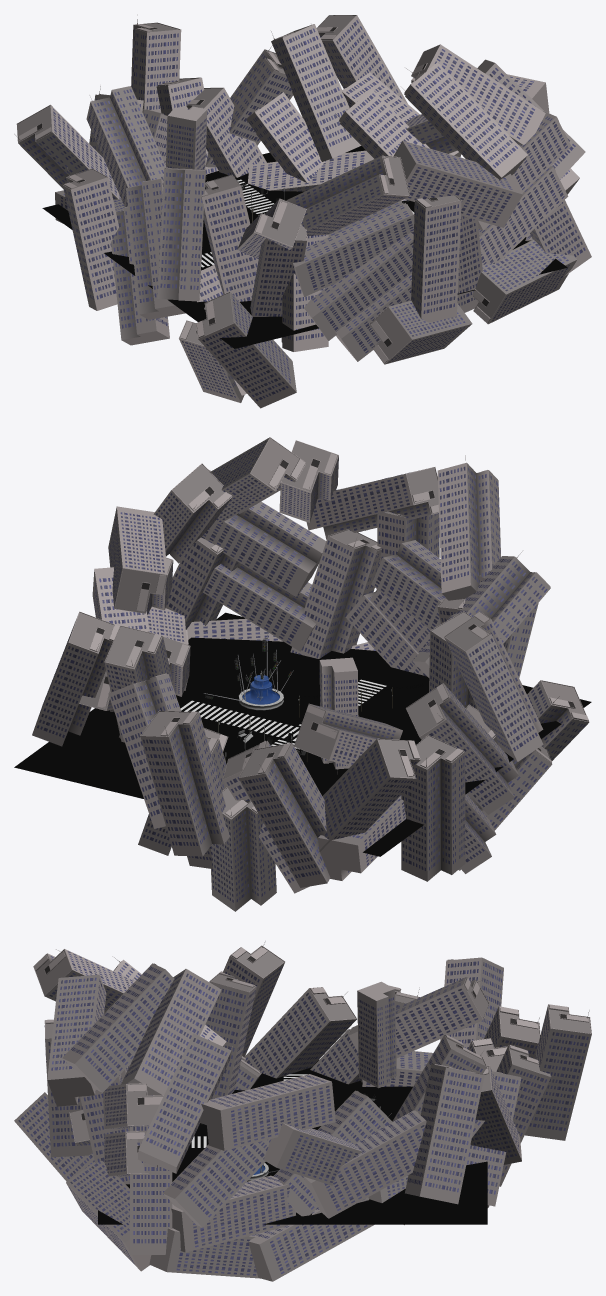
The model's file is level-1-enigma.glb.
3 renders of one model, top to bottom at view 1: azimuth 30°, elevation 25°; view 2: azimuth 150°, elevation 25°; view 3: azimuth 270°, elevation 25°, orthographic. The views are drawn at different scales.
Visible parts, largest first — view 1: buildings, Plane, upside-down-building; view 2: buildings, Plane, upside-down-building, lignepieton.001, base.020, water; view 3: buildings, Plane, upside-down-building.
Part boxes in pixels (bbox=[...]): buildings: bbox=[14, 14, 591, 408]; Plane: bbox=[42, 146, 567, 348]; upside-down-building: bbox=[166, 106, 207, 169]; buildings: bbox=[32, 437, 589, 911]; Plane: bbox=[14, 612, 591, 856]; upside-down-building: bbox=[319, 657, 358, 774]; lignepieton.001: bbox=[180, 700, 299, 741]; base.020: bbox=[238, 670, 283, 710]; water: bbox=[242, 675, 279, 704]; buildings: bbox=[14, 941, 591, 1281]; Plane: bbox=[98, 1060, 487, 1224]; upside-down-building: bbox=[357, 981, 396, 1088].
Bounding box in the file's own units: 328 × 246 × 391.
